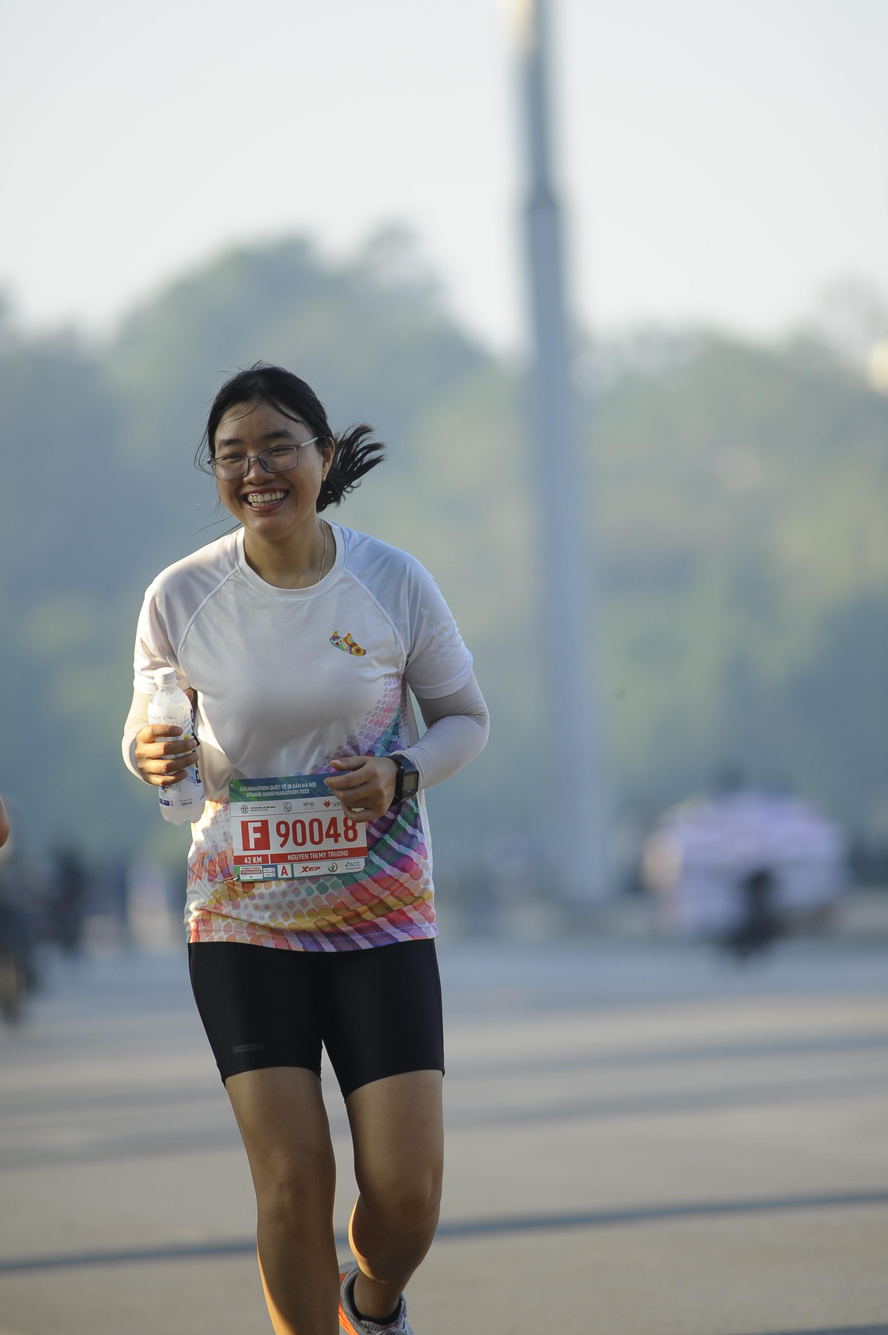bib: (225, 779, 368, 880)
